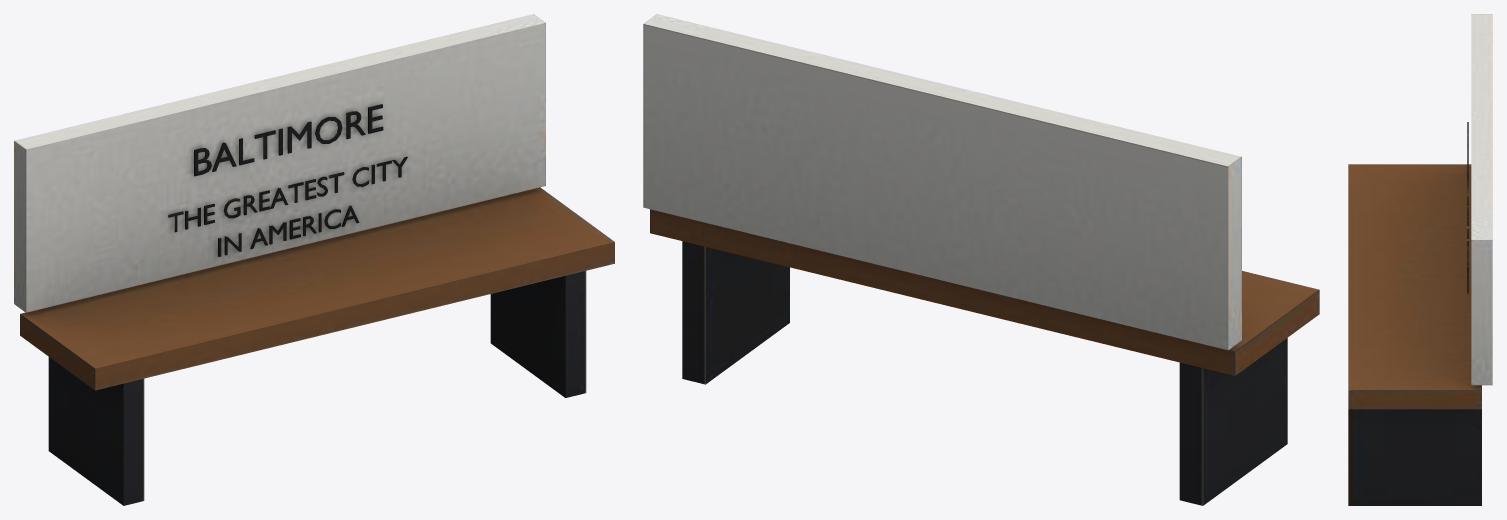
Rendered from banco_baltimore.glb.
3 views of the same model, side by side, from view 1: azimuth 30°, elevation 25°; view 2: azimuth 150°, elevation 25°; view 3: azimuth 270°, elevation 25° (orthographic). The views are drawn at different scales.
Visible parts, largest first — view 1: banco_baltimore; view 2: banco_baltimore; view 3: banco_baltimore.
Boxes of the visible parts, x1=… form: banco_baltimore: x1=14, y1=14, x2=614, y2=505; banco_baltimore: x1=643, y1=14, x2=1319, y2=505; banco_baltimore: x1=1348, y1=14, x2=1492, y2=505.
Bounding box in the file's own units: 2 × 1.15 × 0.54.
Materials: 1 (1 with a texture image).
